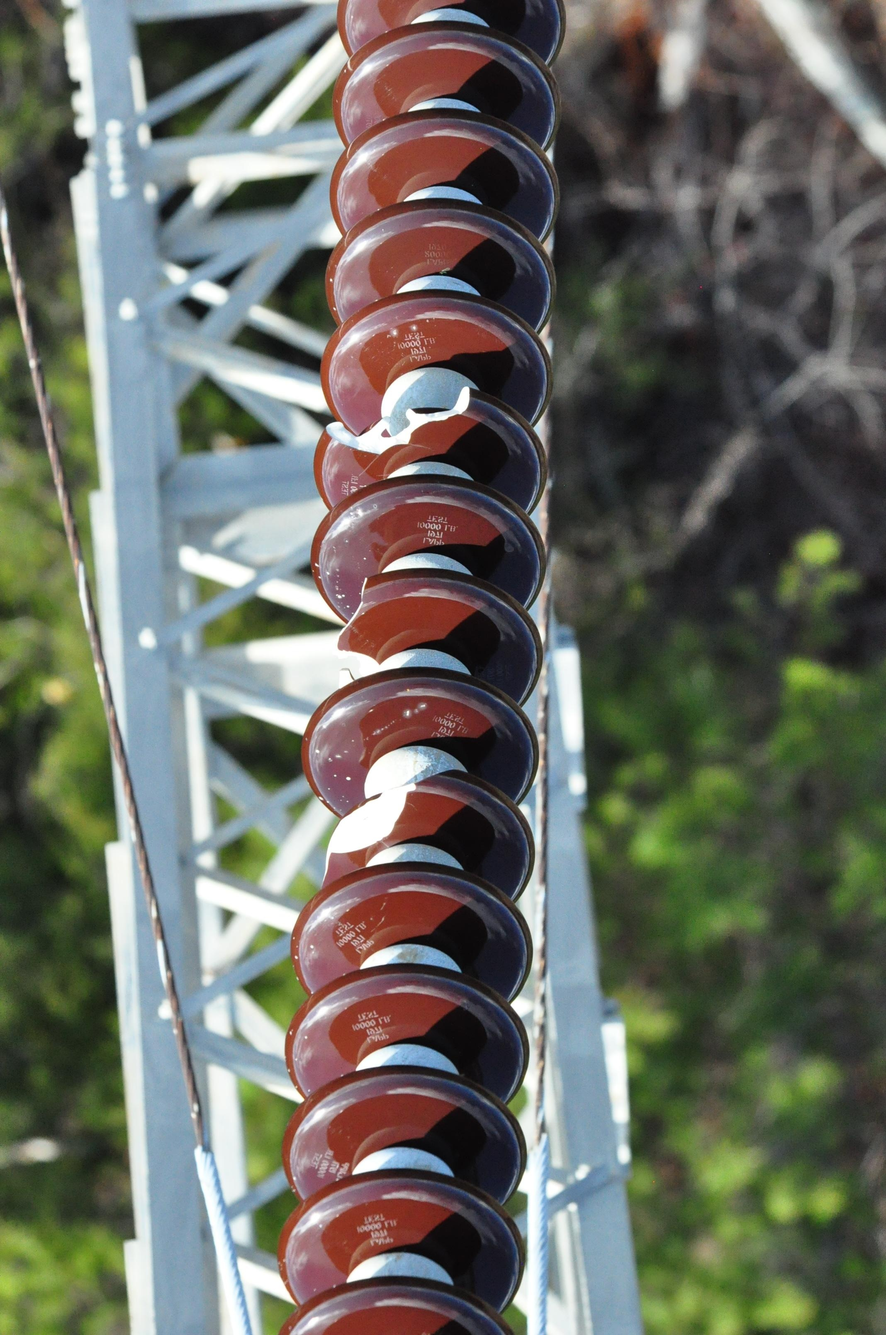damaged: (307, 773, 450, 893), (317, 382, 479, 467), (329, 571, 391, 703)
insulator: (280, 0, 570, 1335)
